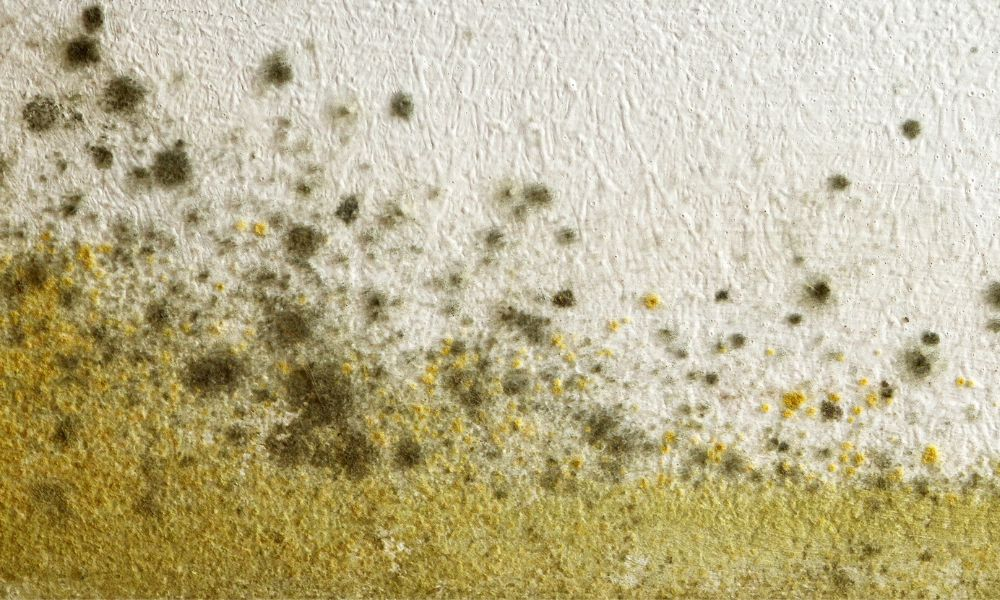Cladosporium: (4, 367, 606, 600), (10, 1, 142, 134), (239, 213, 328, 256), (806, 281, 841, 318), (557, 289, 572, 307)
